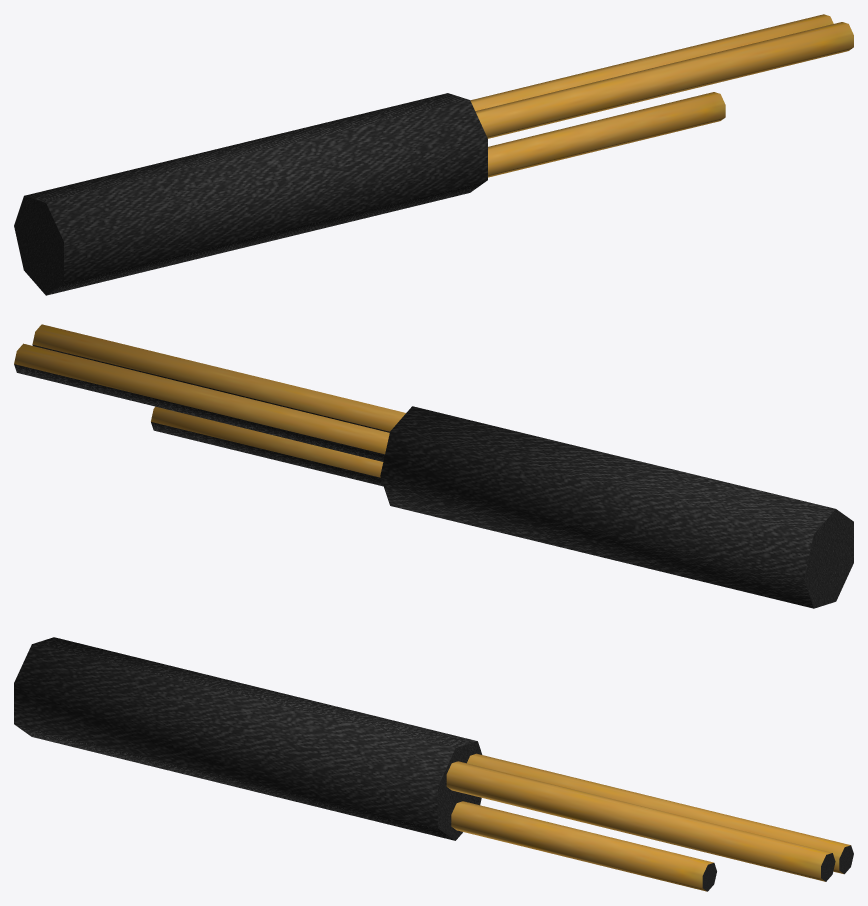
File: Tool_03.fbx
3 views of the same model, one above another, from view 1: azimuth 30°, elevation 25°; view 2: azimuth 150°, elevation 25°; view 3: azimuth 330°, elevation 25° (orthographic).
Parts seen in each view (by area): view 1: Tool_03; view 2: Tool_03; view 3: Tool_03.
Part boxes in pixels (x1,y1,x2,y2): Tool_03: (14,14,853,295); Tool_03: (14,324,853,608); Tool_03: (14,637,853,891).
Size of the model in its own units: 44.49 by 4.97 by 4.81.
